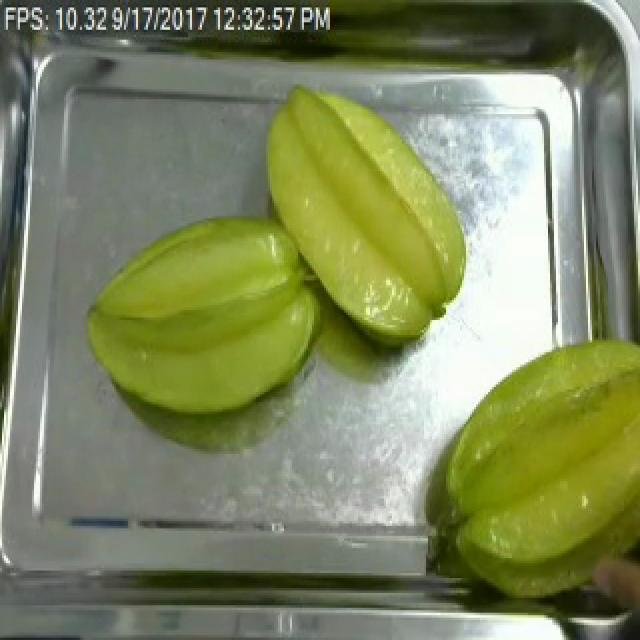fruit: (250, 77, 476, 360), (72, 204, 336, 429), (430, 332, 640, 603)
